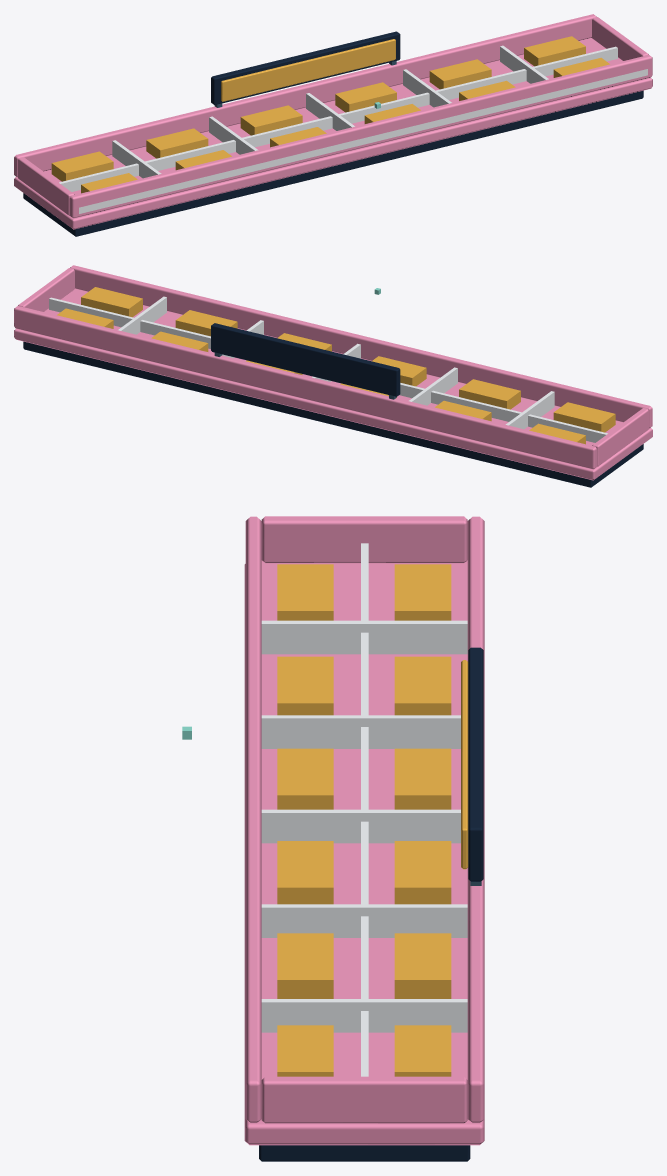
File: CM_Fixture_SnackBin_Far.fbx
The picture shows the model from 3 angles, top to bottom: view 1: azimuth 30°, elevation 25°; view 2: azimuth 150°, elevation 25°; view 3: azimuth 270°, elevation 25°; orthographic projection. The views are drawn at different scales.
Parts seen in each view (by area): view 1: Body; view 2: Body; view 3: Body.
Boxes of the visible parts, x1=… form: Body: x1=14, y1=14, x2=652, y2=236; Body: x1=14, y1=265, x2=652, y2=487; Body: x1=244, y1=516, x2=484, y2=1161.
Size of the model in its own units: 28 by 6.3 by 3.6.
Materials: 1 (1 with a texture image).
